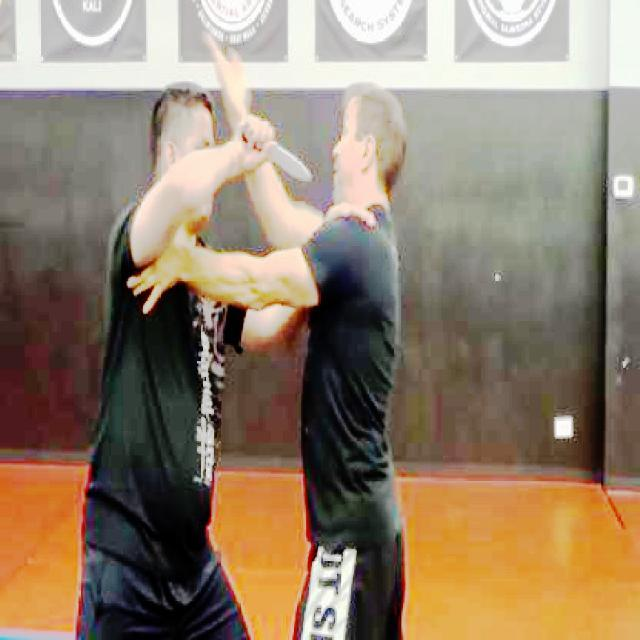Knife: (238, 122, 315, 186)
